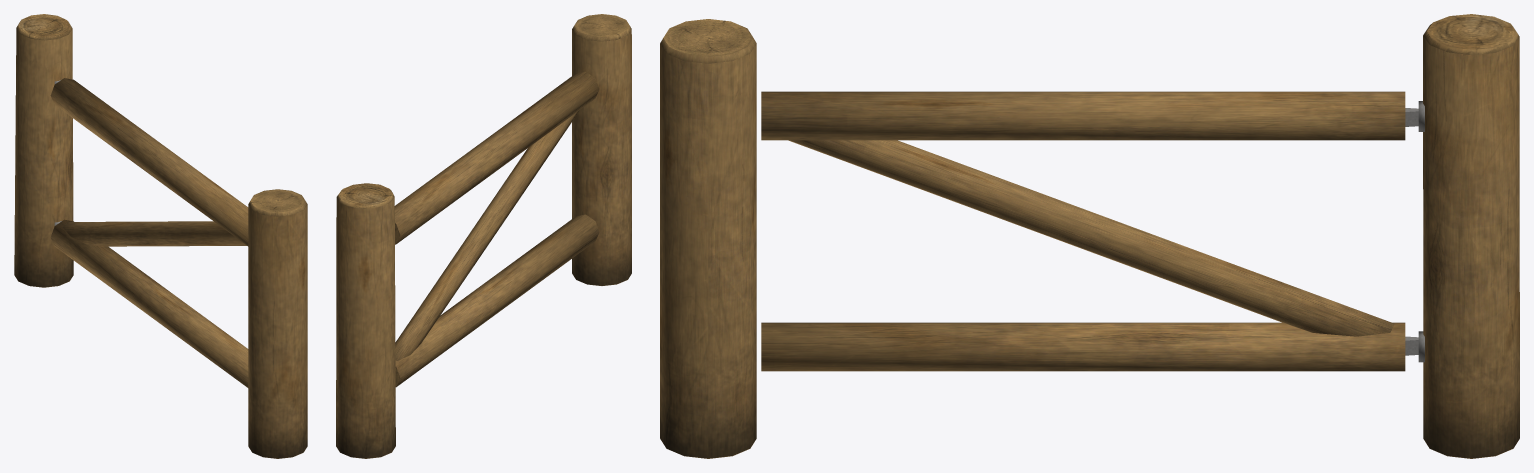
Rendered from FenceLow_Wood_Gate01.fbx.
3 views of the same model, side by side, from view 1: azimuth 30°, elevation 25°; view 2: azimuth 150°, elevation 25°; view 3: azimuth 270°, elevation 25° (orthographic). The views are drawn at different scales.
Parts seen in each view (by area): view 1: GateStatic, GateAnimated; view 2: GateStatic, GateAnimated; view 3: GateAnimated, GateStatic.
Boxes of the visible parts, <box> form: GateStatic: <box>14,14,307,458</box>; GateAnimated: <box>50,78,248,387</box>; GateStatic: <box>336,14,631,458</box>; GateAnimated: <box>394,71,599,387</box>; GateAnimated: <box>761,91,1418,371</box>; GateStatic: <box>660,14,1519,458</box>.
Bounding box in the file's own units: 22.51 × 104 × 200.
